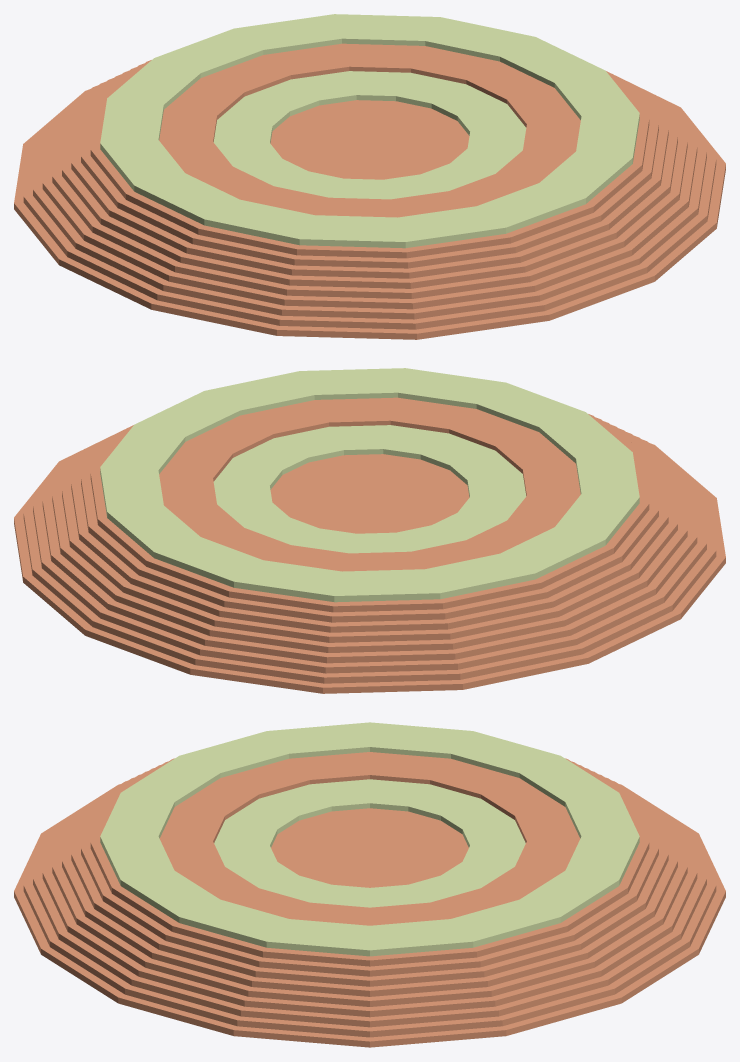
File: start.fbx
3 views of the same model, one above another, from view 1: azimuth 30°, elevation 25°; view 2: azimuth 150°, elevation 25°; view 3: azimuth 270°, elevation 25° (orthographic).
Visible parts, largest first — view 1: Pyramid; view 2: Pyramid; view 3: Pyramid.
Part boxes in pixels (<box>): Pyramid: <box>14,14,725,339</box>; Pyramid: <box>14,368,725,693</box>; Pyramid: <box>14,722,725,1047</box>.
Size of the model in its own units: 743 by 70 by 743.
